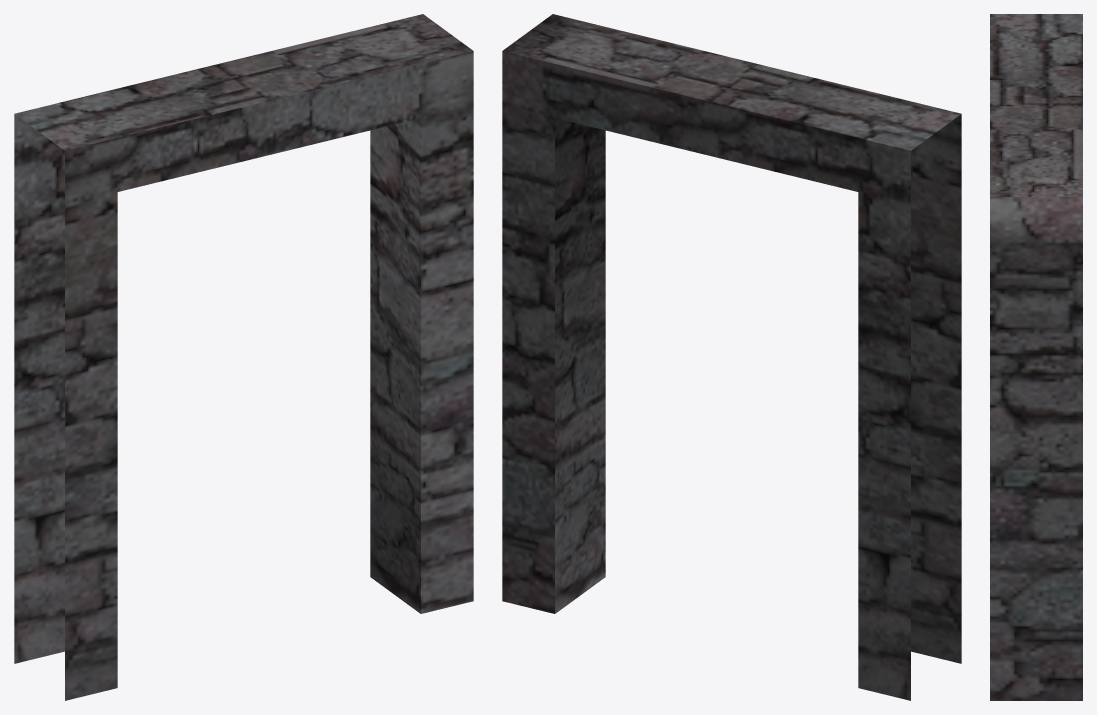
The model's file is wallDoor.fbx.
3 views of the same model, side by side, from view 1: azimuth 30°, elevation 25°; view 2: azimuth 150°, elevation 25°; view 3: azimuth 270°, elevation 25° (orthographic). The views are drawn at different scales.
Parts seen in each view (by area): view 1: wallDoorMesh; view 2: wallDoorMesh; view 3: wallDoorMesh.
Boxes of the visible parts, x1,y1,x2,y2 form: wallDoorMesh: (14,14,473,700); wallDoorMesh: (502,14,961,700); wallDoorMesh: (990,14,1082,700).
Size of the model in its own units: 140 by 180 by 30.
